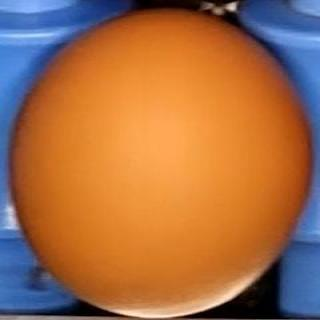Telur: (5, 8, 316, 319)
